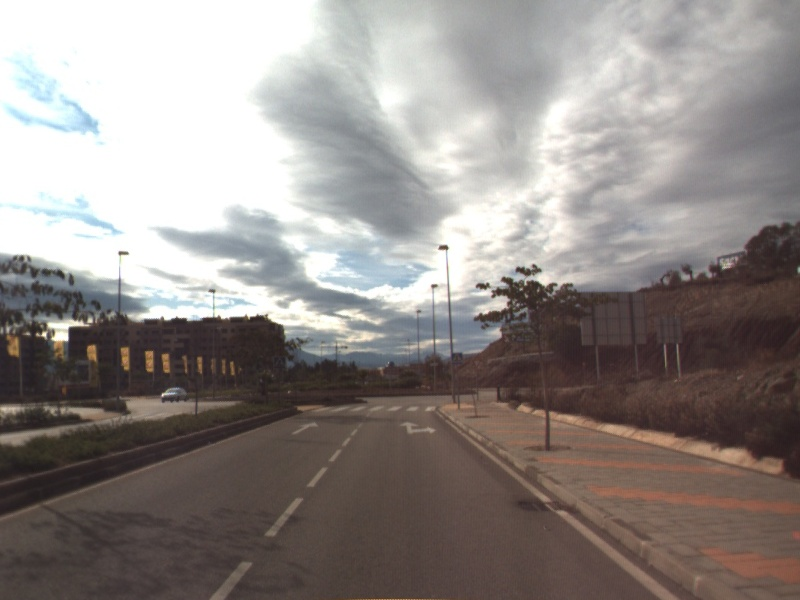STRAIGHT: (289, 420, 321, 436)
STRAIGHT_RIGHT: (398, 420, 439, 436)
